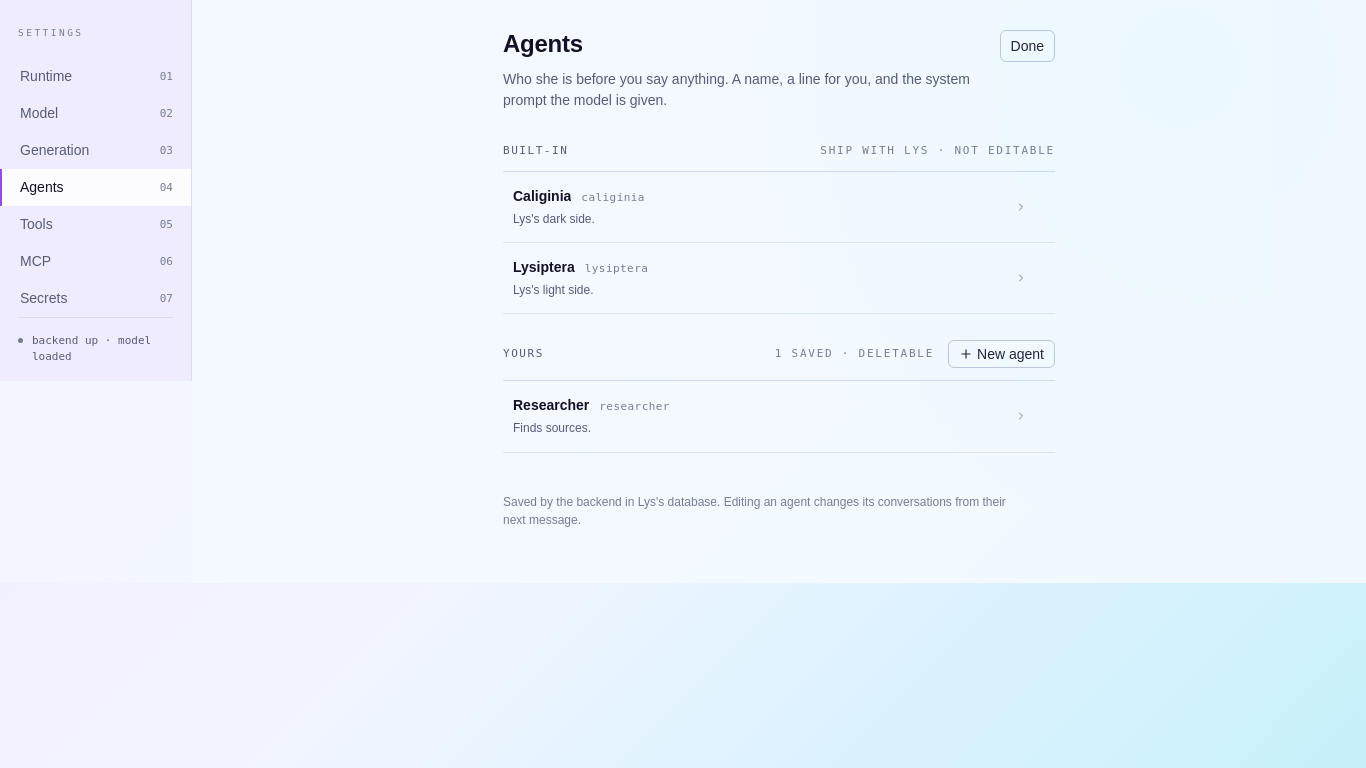
Scenario: AgentEditor › a stored agent › opens a copy as a new agent under another name
This screenshot has width=1366, height=768.
Expected: the text "Saved by the backend in Lys's database" is shown, [503,495,1006,527]
Step 1. Click the button "Researcher researcher Finds sources." → click(551, 405), box [503,381,1055,452]
(page scrolled)
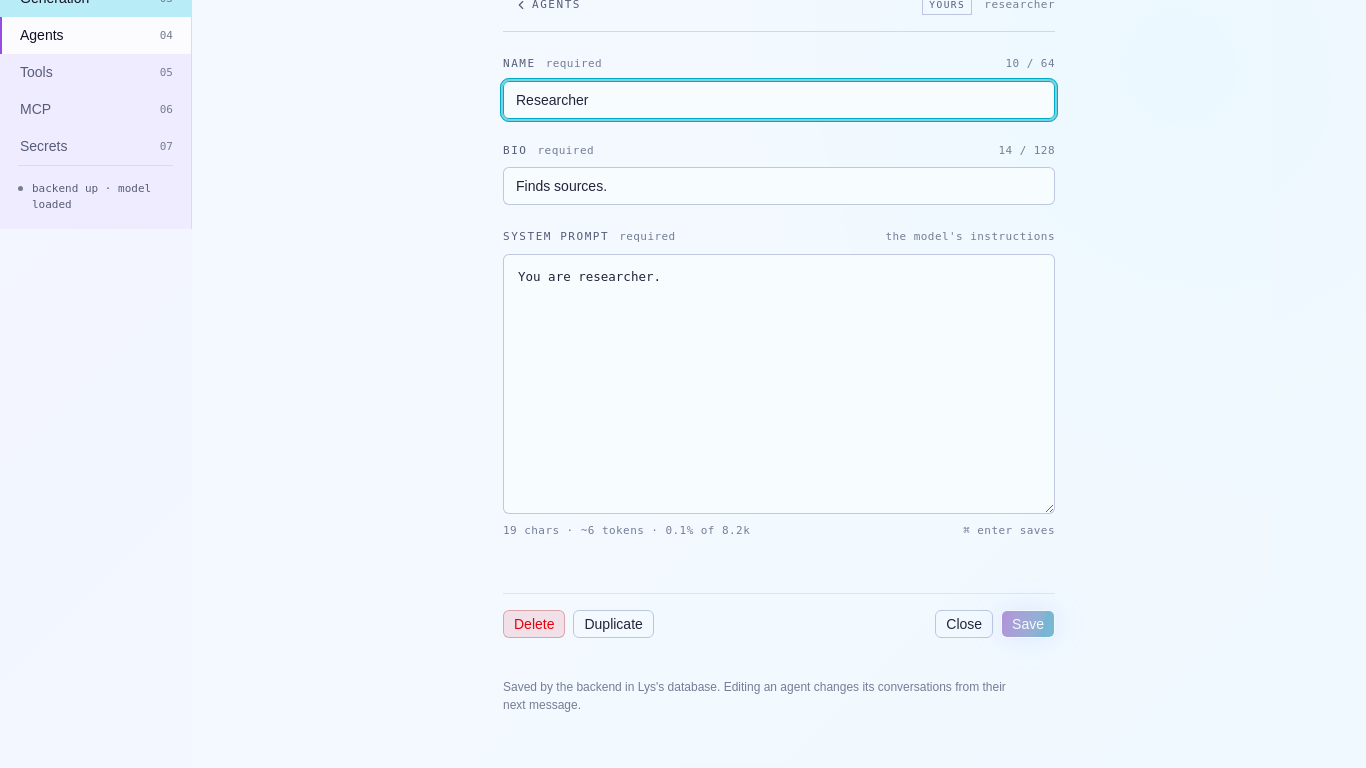
Step 2. Click the button "Duplicate" → click(614, 624), box [574,610,654,638]
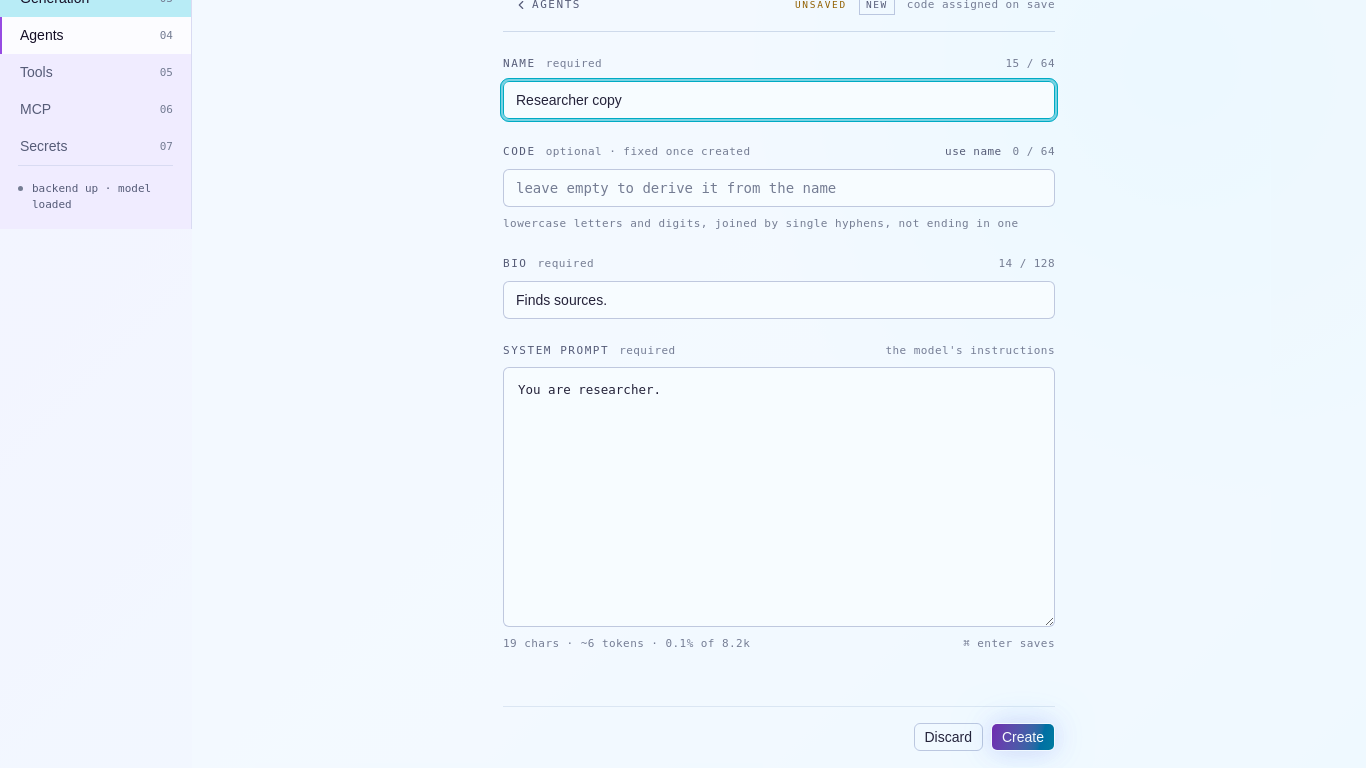
Expected: the form named "New agent" is shown, [503,0,1055,751]
Expected: the field labelled "name" holds "Researcher copy", [503,80,1055,118]
Expected: the field labelled "bio" holds "Finds sources.", [503,281,1055,319]
